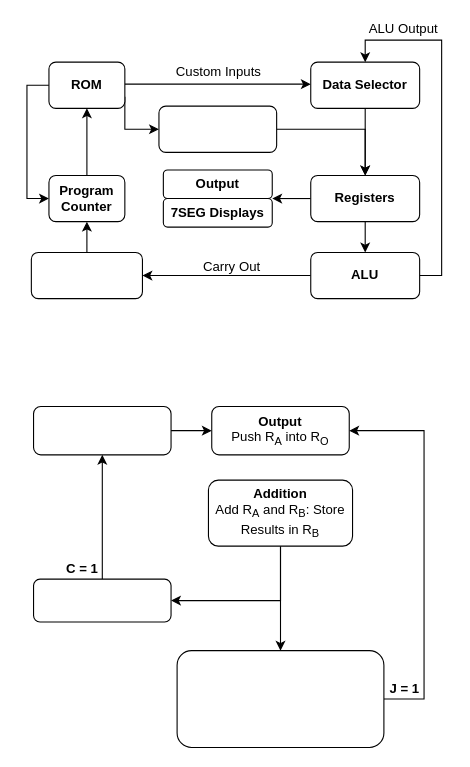
This 470x767 diagram has some shape labels left out. The centre of each missing label's shape, as x and y in pixels:
"Custom Load 0 in R A : 1 in R B" goes at (x=101, y=430).
"If R A + R B > 63" goes at (x=101, y=600).
"Overflow/Jump" goes at (x=86, y=275).
"Register Selector" goes at (x=217, y=128).
"Swap R A and R B R A = R A + R B R B = R A - R B R A = R A - R B" goes at (x=280, y=698).
